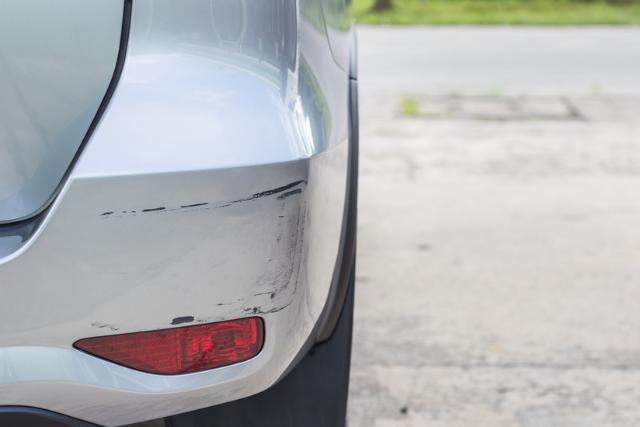Bumper: (85, 165, 326, 365)
